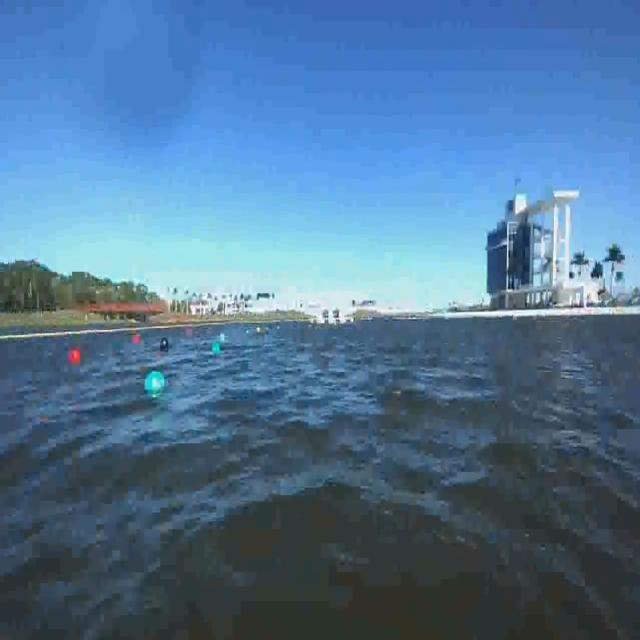black-buoy: (160, 335, 168, 351)
green-buoy: (144, 369, 164, 396), (212, 343, 221, 355)
red-buoy: (68, 348, 82, 366)
